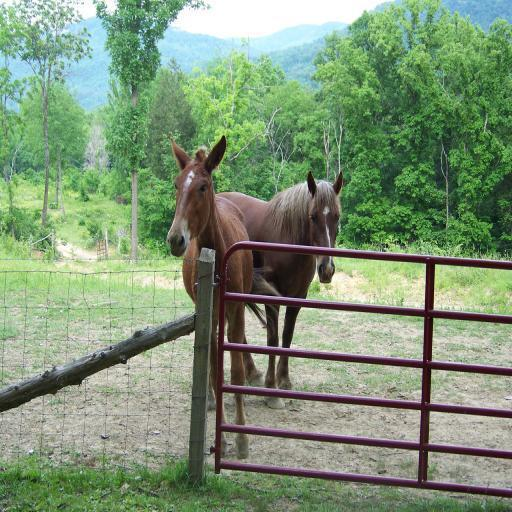horse: (164, 132, 288, 460), (214, 168, 344, 410)
